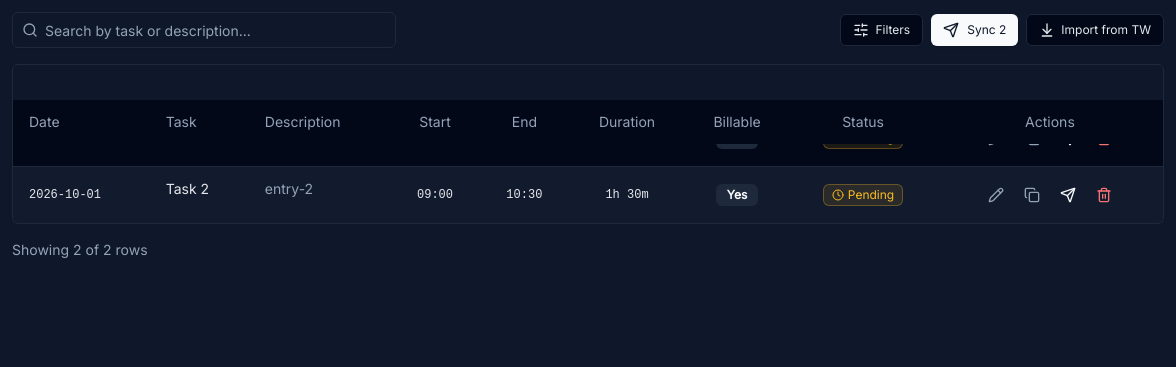
Scenario: UX-501/UX-502 accessible names and associations › associates the TimeLogsTable filter labels with their controls
The image size is (1176, 367).
Click the button "Filters". click: (882, 30)
box: 840,14 -> 923,46
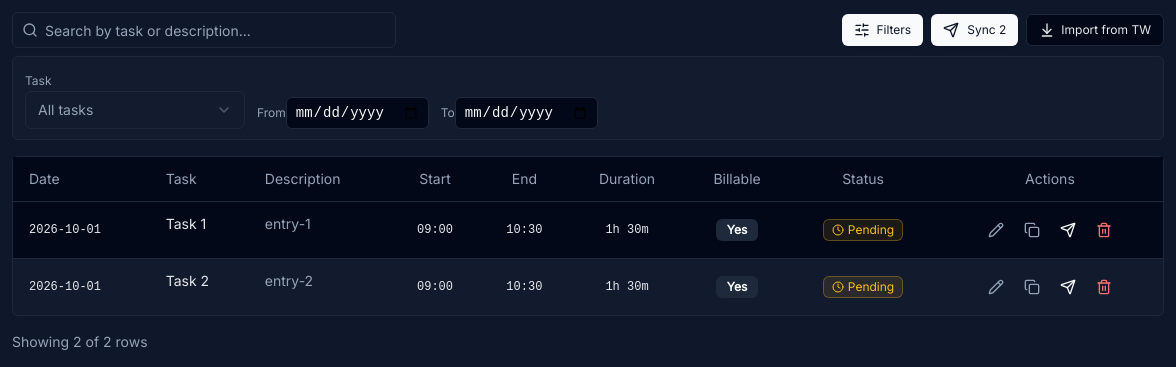
Result: the dropdown labelled "task" is shown at 25,91 -> 245,129
Result: the date field labelled "From" is shown at 286,97 -> 429,129
Result: the date field labelled "To" is shown at 455,97 -> 598,129
